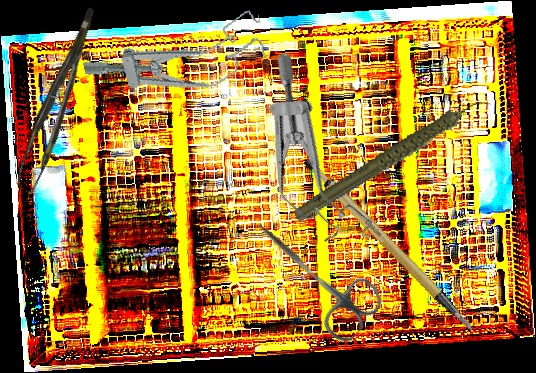Handpiece: (278, 96, 508, 224)
Iris Scissors: (234, 201, 389, 348)
Scalpel Handle: (300, 138, 475, 354)
Speculum: (207, 49, 424, 264), (79, 8, 273, 114)
Tissue Forceps: (4, 7, 117, 195)
